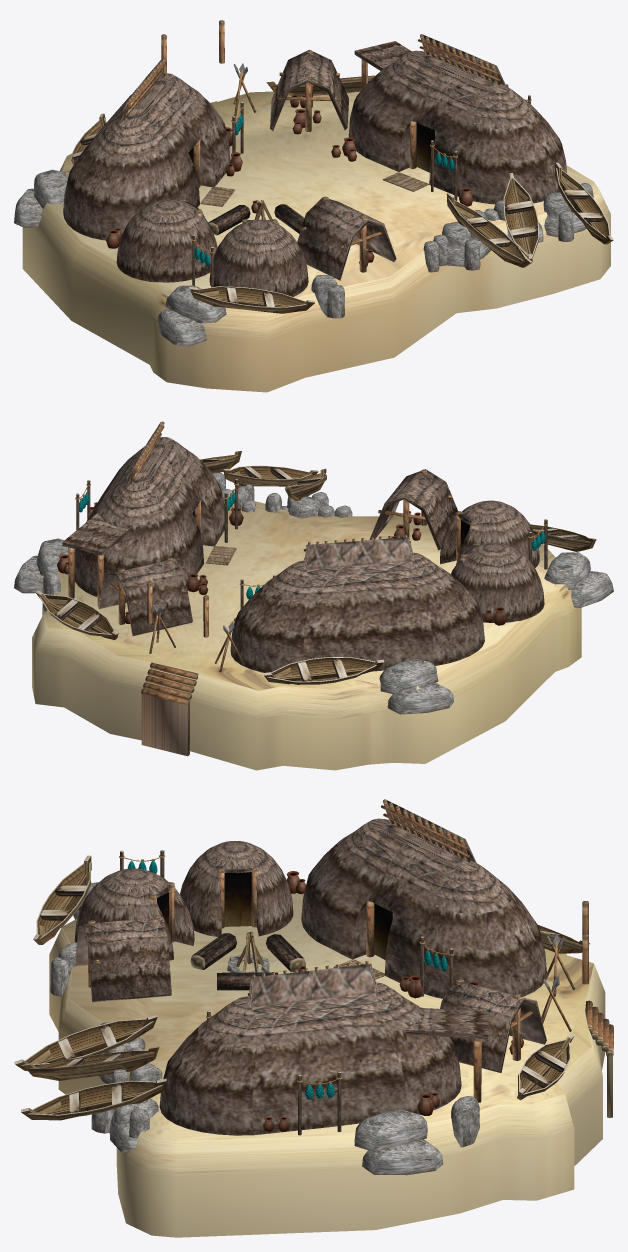
The model's file is Islan_coloni.dae.
The picture shows the model from 3 angles, top to bottom: view 1: azimuth 30°, elevation 25°; view 2: azimuth 150°, elevation 25°; view 3: azimuth 270°, elevation 25°; orthographic projection. The views are drawn at different scales.
Parts seen in each view (by area): view 1: Islan_coloni; view 2: Islan_coloni; view 3: Islan_coloni.
Boxes of the visible parts, x1=… form: Islan_coloni: x1=14, y1=20, x2=613, y2=392; Islan_coloni: x1=14, y1=421, x2=613, y2=770; Islan_coloni: x1=14, y1=799, x2=613, y2=1237.
Bounding box in the file's own units: 41.19 × 38.72 × 15.61.
